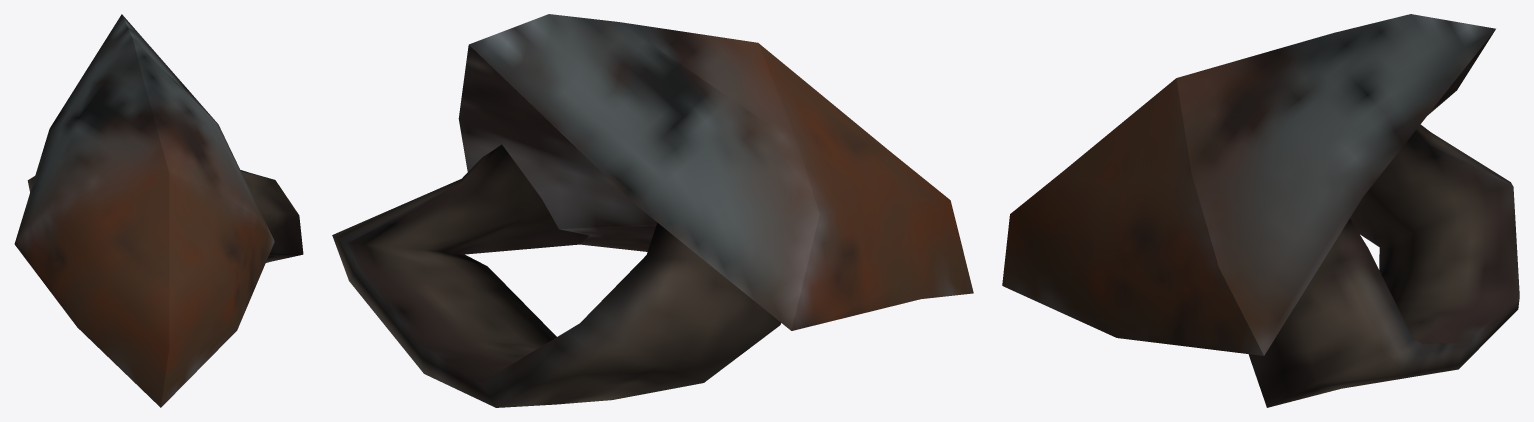
Rendered from RustedArmor_piece1.fbx.
3 renders of one model, left to right at view 1: azimuth 30°, elevation 25°; view 2: azimuth 150°, elevation 25°; view 3: azimuth 270°, elevation 25°, orthographic. The views are drawn at different scales.
Visible parts, largest first — view 1: armor_piece1; view 2: armor_piece1; view 3: armor_piece1.
Part boxes in pixels (bbox=[...]): armor_piece1: bbox=[14, 14, 303, 407]; armor_piece1: bbox=[332, 14, 973, 407]; armor_piece1: bbox=[1002, 14, 1519, 407].
Bounding box in the file's own units: 21.81 × 18.33 × 24.46.
